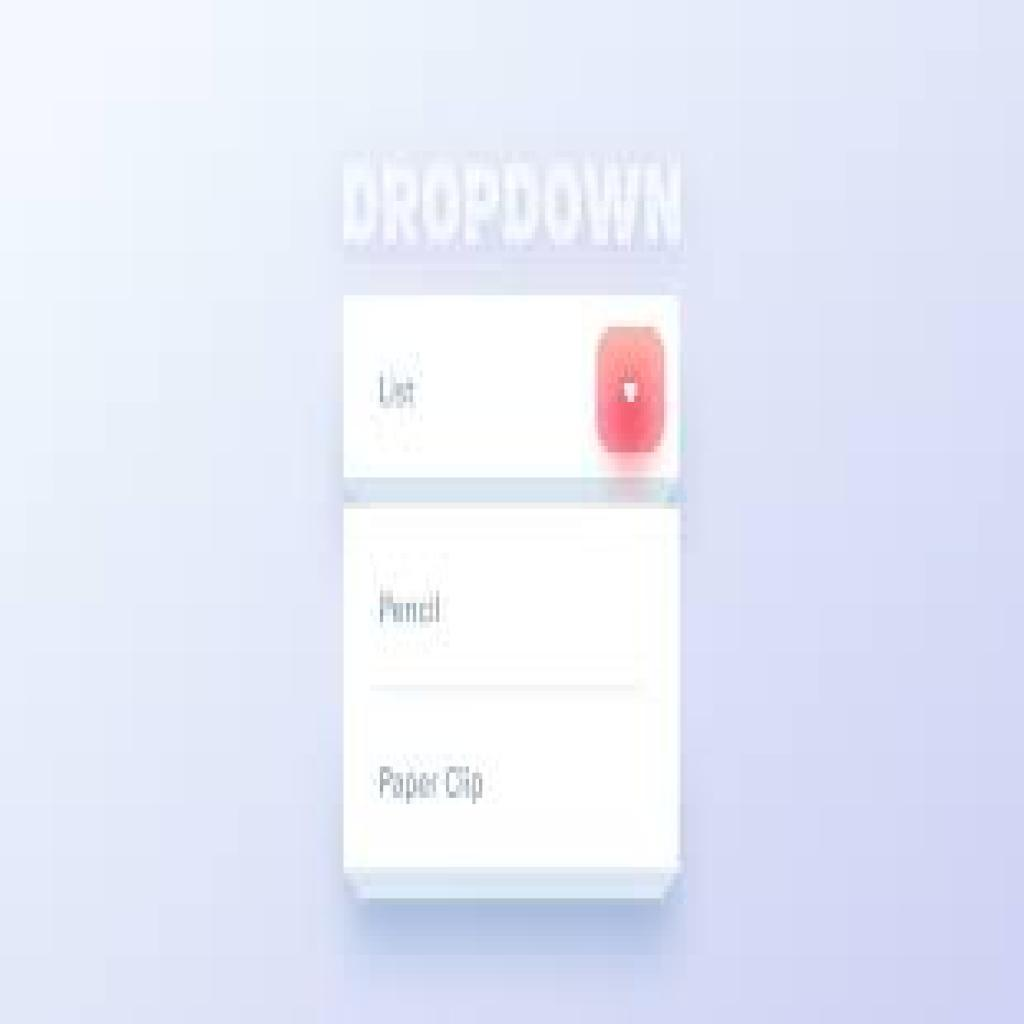dropdown: (345, 295, 681, 481)
